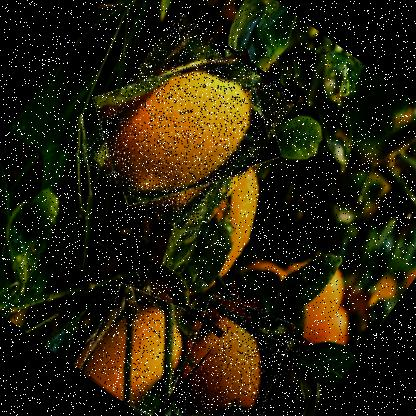lemon: (73, 10, 300, 244), (69, 269, 225, 415), (149, 283, 314, 415)
